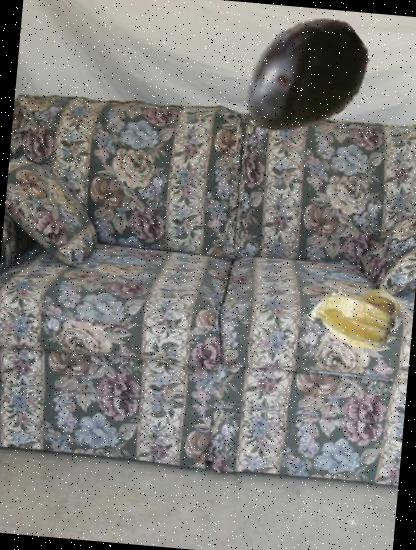Physalis: (306, 266, 400, 360)
Plum: (230, 4, 378, 152)
